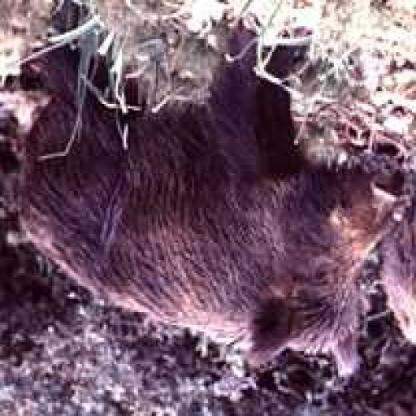boar: (0, 1, 405, 383)
